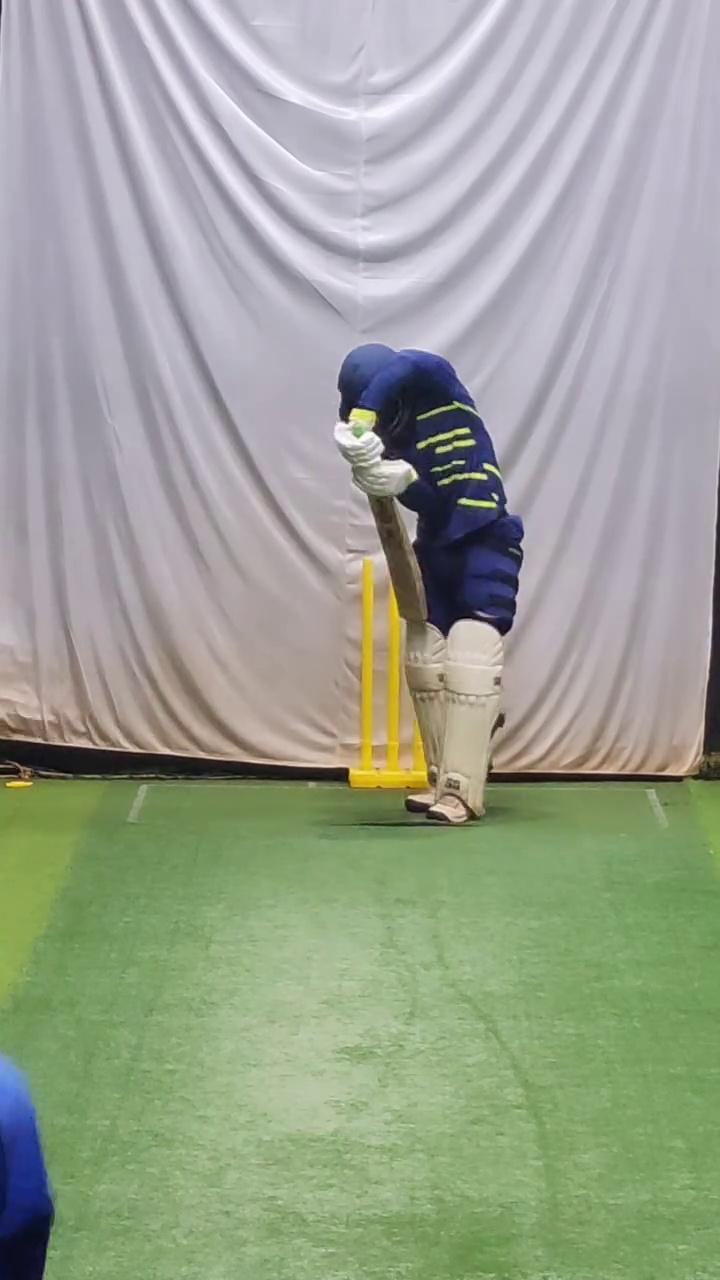bat: (357, 485, 438, 635)
